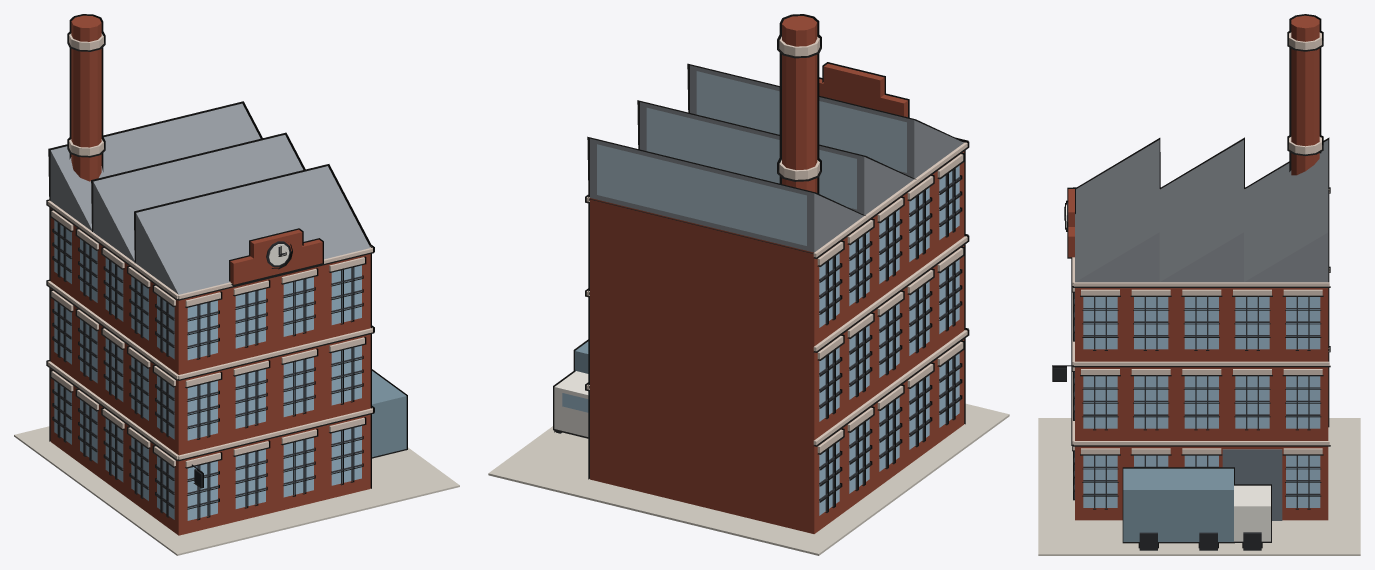
Rendered from Sanayi_fabrika_matbaa.fbx.
3 views of the same model, side by side, from view 1: azimuth 30°, elevation 25°; view 2: azimuth 150°, elevation 25°; view 3: azimuth 270°, elevation 25° (orthographic). The views are drawn at different scales.
Visible parts, largest first — view 1: Sanayi_fabrika_matbaa; view 2: Sanayi_fabrika_matbaa; view 3: Sanayi_fabrika_matbaa.
Part boxes in pixels (x1,y1,x2,y2): Sanayi_fabrika_matbaa: [14, 14, 459, 555]; Sanayi_fabrika_matbaa: [488, 14, 1009, 555]; Sanayi_fabrika_matbaa: [1038, 14, 1360, 555].
Bounding box in the file's own units: 14 × 20.12 × 14.
